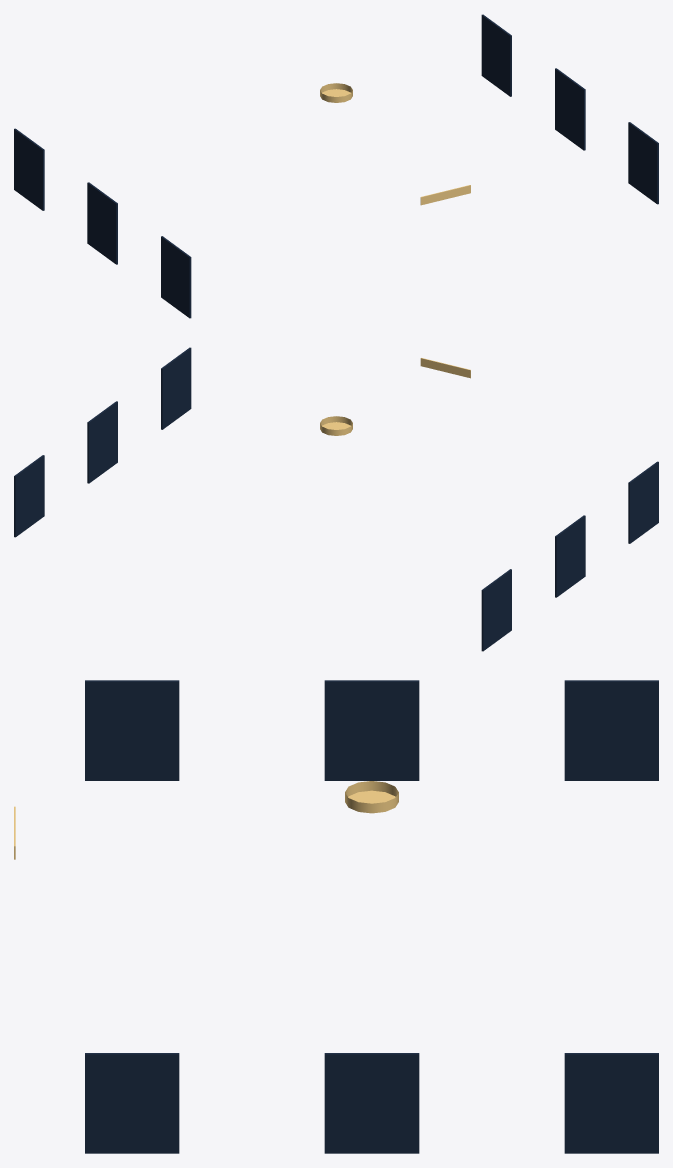
The model's file is SM_Interior_academy_chancellor_office_NoCol.fbx.
3 renders of one model, top to bottom at view 1: azimuth 30°, elevation 25°; view 2: azimuth 150°, elevation 25°; view 3: azimuth 270°, elevation 25°, orthographic. The views are drawn at different scales.
Parts seen in each view (by area): view 1: SM_Interior_academy_chancellor_office_NoCol; view 2: SM_Interior_academy_chancellor_office_NoCol; view 3: SM_Interior_academy_chancellor_office_NoCol.
Part boxes in pixels (<box>): SM_Interior_academy_chancellor_office_NoCol: <box>14,14,658,318</box>; SM_Interior_academy_chancellor_office_NoCol: <box>14,347,658,651</box>; SM_Interior_academy_chancellor_office_NoCol: <box>14,680,658,1153</box>.
Size of the model in its own units: 9.84 by 2.14 by 7.17.
